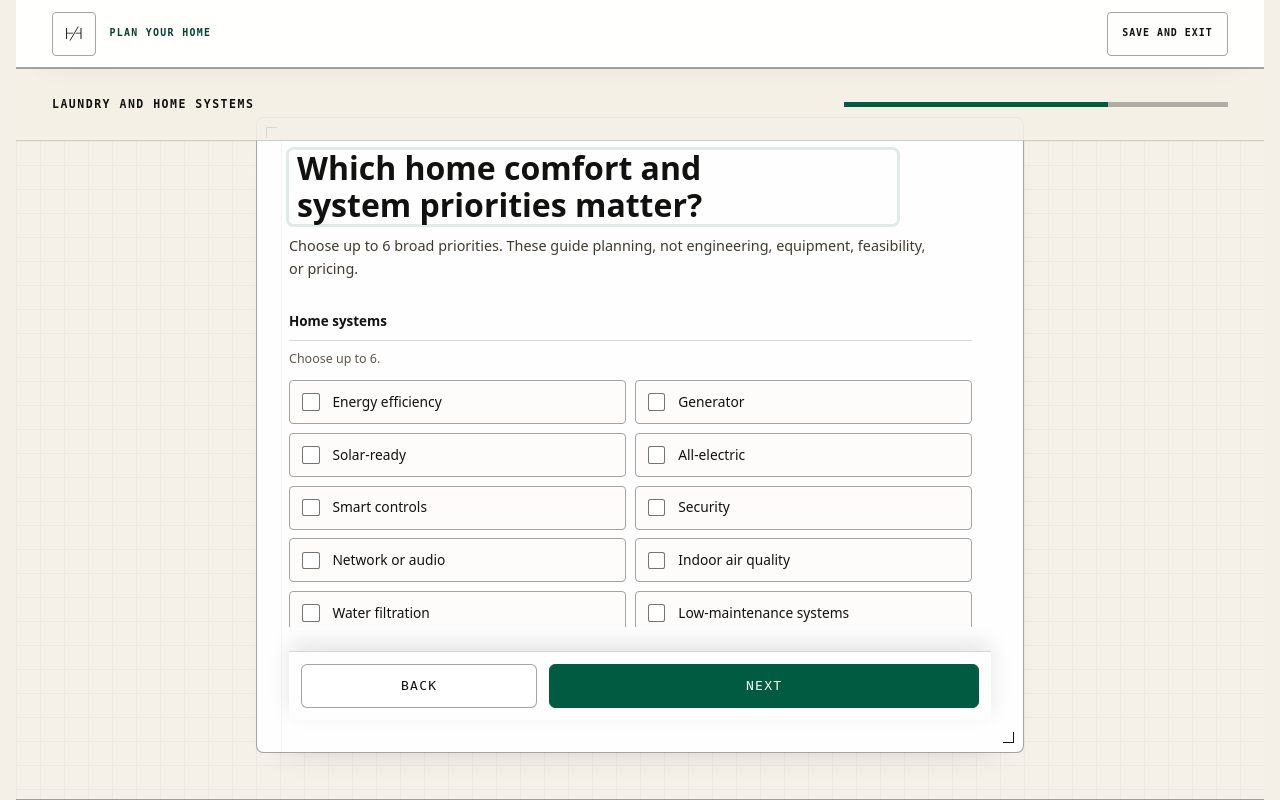
utility advances directly into one fixed exterior study without moving overlays
Expected: the heading "Which home comfort and system priorities matter?" is shown, 289,150 -> 897,224
Click the checkbox labelled "Energy efficiency".
click(387, 401)  # box 289,380 -> 626,424
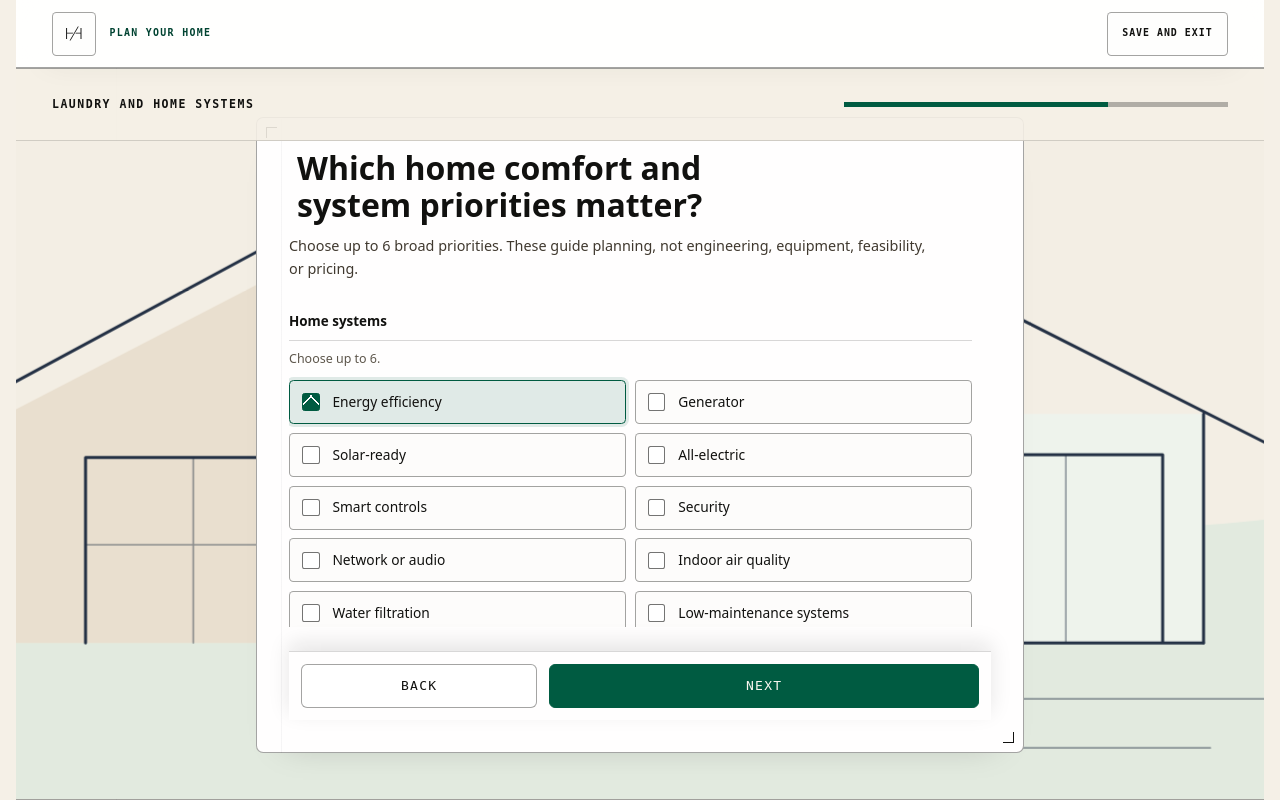
Click the button "Next".
click(764, 686)  # box 549,664 -> 979,708
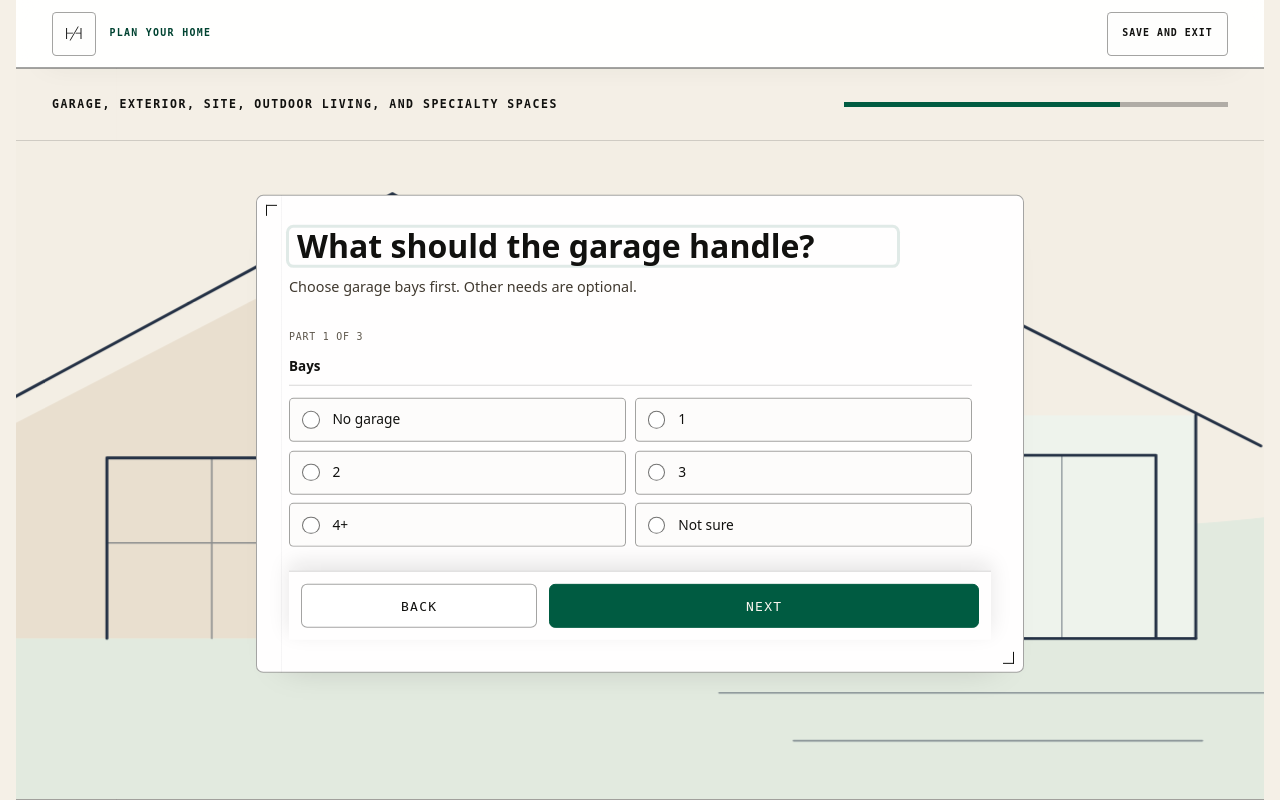
Expected: the heading "What should the garage handle?" is shown, 289,228 -> 897,265
